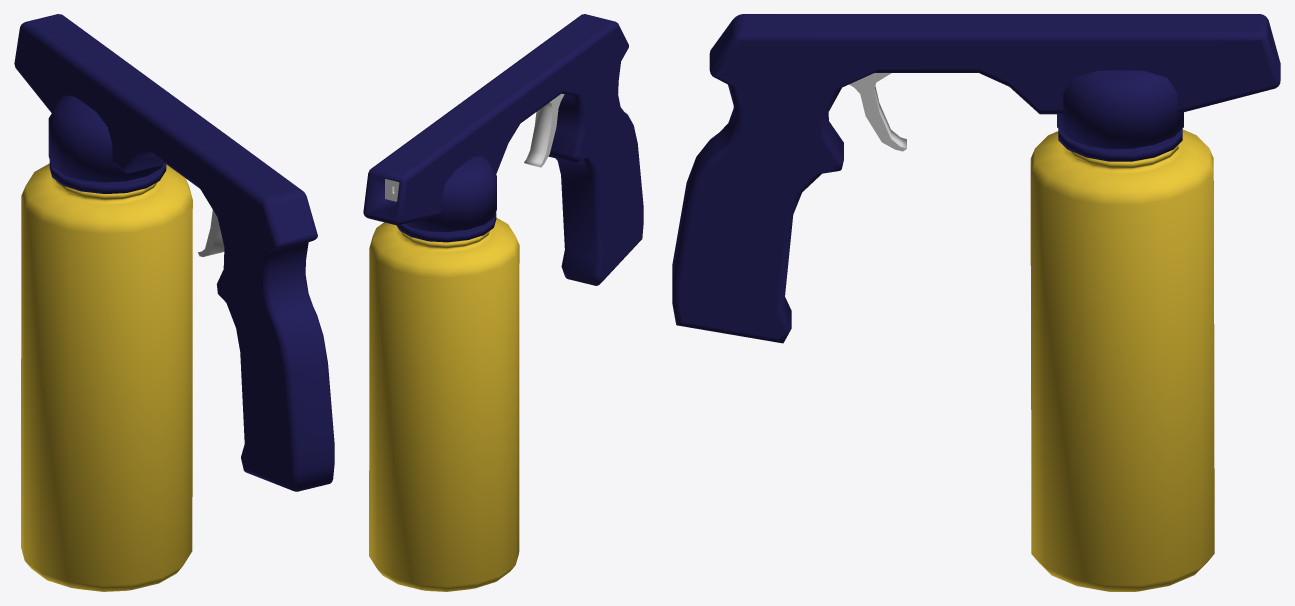
Rendered from Weapon_Spray.fbx.
3 renders of one model, left to right at view 1: azimuth 30°, elevation 25°; view 2: azimuth 150°, elevation 25°; view 3: azimuth 270°, elevation 25°, orthographic. The views are drawn at different scales.
Parts seen in each view (by area): view 1: Tank.001, SprayGun, Trigger.001; view 2: Tank.001, SprayGun, Trigger.001; view 3: Tank.001, SprayGun, Trigger.001.
Part boxes in pixels (x1,y1,x2,y2): Tank.001: [21, 163, 192, 591]; SprayGun: [14, 14, 334, 491]; Trigger.001: [198, 210, 224, 256]; Tank.001: [369, 217, 519, 591]; SprayGun: [363, 14, 643, 285]; Trigger.001: [524, 93, 564, 167]; Tank.001: [1030, 129, 1214, 591]; SprayGun: [672, 14, 1280, 343]; Trigger.001: [849, 73, 906, 151].
Bounding box in the file's own units: 68.87 × 227 × 229.
